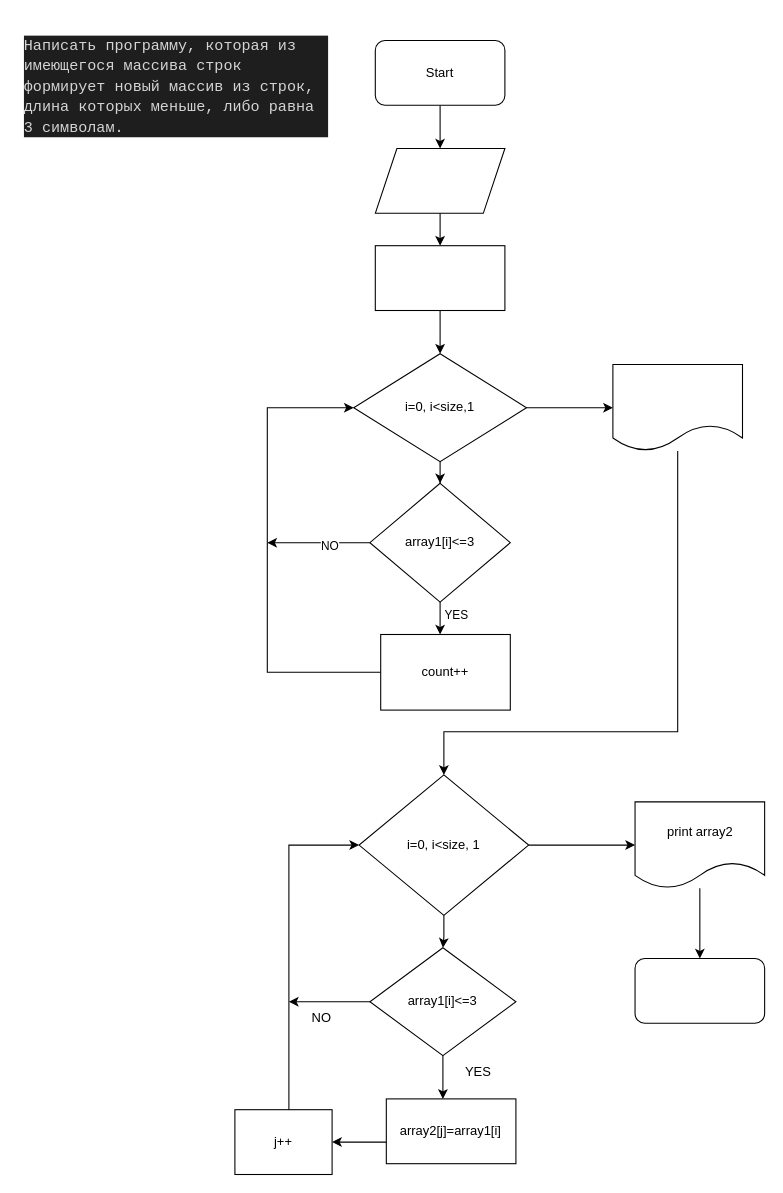
The diagram is 783 pixels wide and 1193 high, and some of its shapes have lost their labels. Here are the shapes that lost their labels. From the top down, the centre of each, then its label:
[439,180]: array1 array2 size
[439,277]: count=0 max=3
[677,407]: print array1
[699,990]: Final
